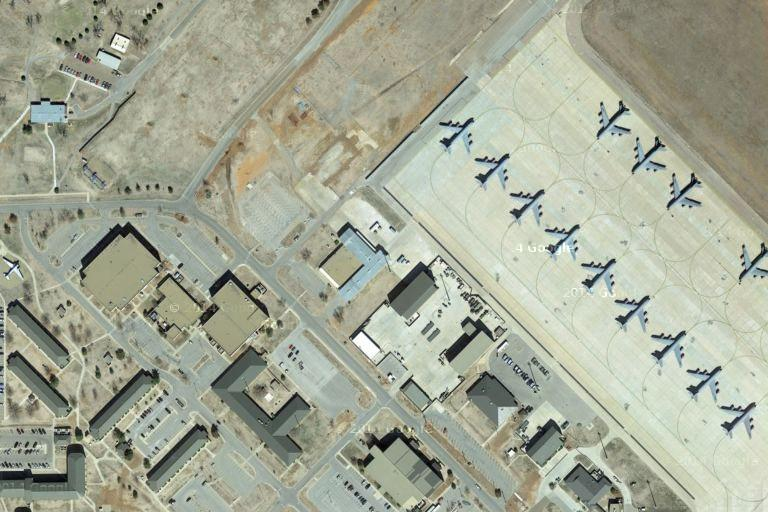KC-135: (661, 171, 707, 215), (718, 398, 761, 443), (435, 114, 479, 157), (627, 136, 671, 179), (506, 188, 551, 229), (683, 366, 727, 406), (542, 222, 584, 263), (579, 257, 621, 298), (472, 152, 514, 192), (612, 295, 655, 334), (649, 330, 691, 369), (594, 100, 632, 143), (734, 238, 768, 286)
